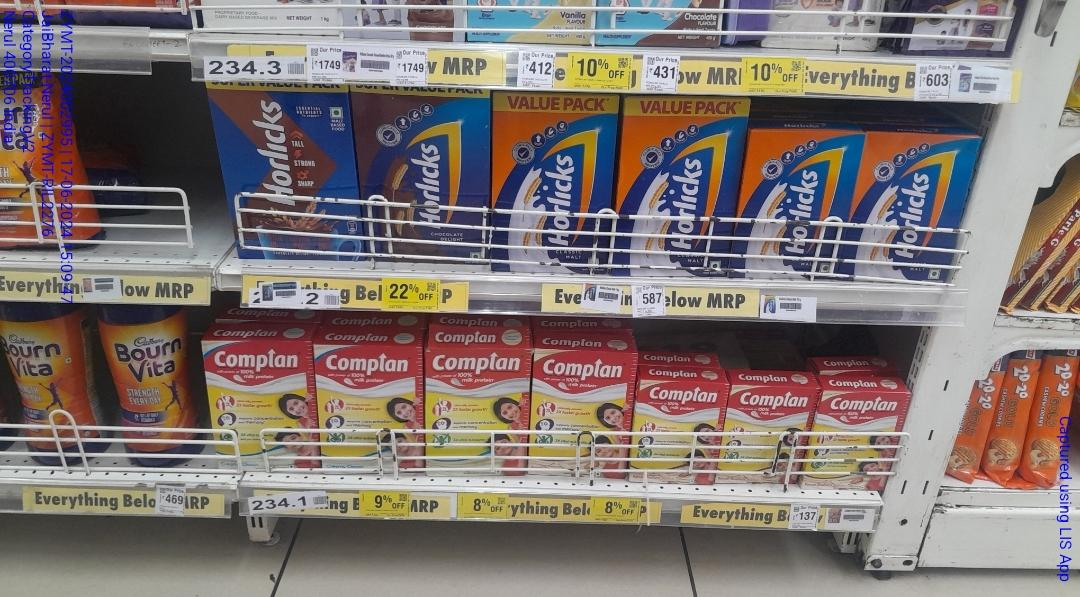BOURN_VITA_500_G_JAR: (103, 306, 202, 471), (2, 302, 97, 467)
COMPLAN_CHOCOLATE_1_KG_PACK: (213, 85, 350, 262)
COMPLAN_CREAMY_CLASSIC_500_G_PACK: (208, 343, 317, 469), (321, 344, 423, 471), (429, 350, 524, 476)
COMPLAN_KESAR_BADAM_200_GMS_PACK: (806, 387, 888, 490), (635, 380, 714, 485), (726, 381, 799, 483)
COMPLAN_KESAR_BADAM_500_GMS_PACK: (533, 349, 629, 479)
HORLICK_CLASSIC_MALT_500_G_PACK: (858, 130, 955, 280), (743, 127, 837, 278)
